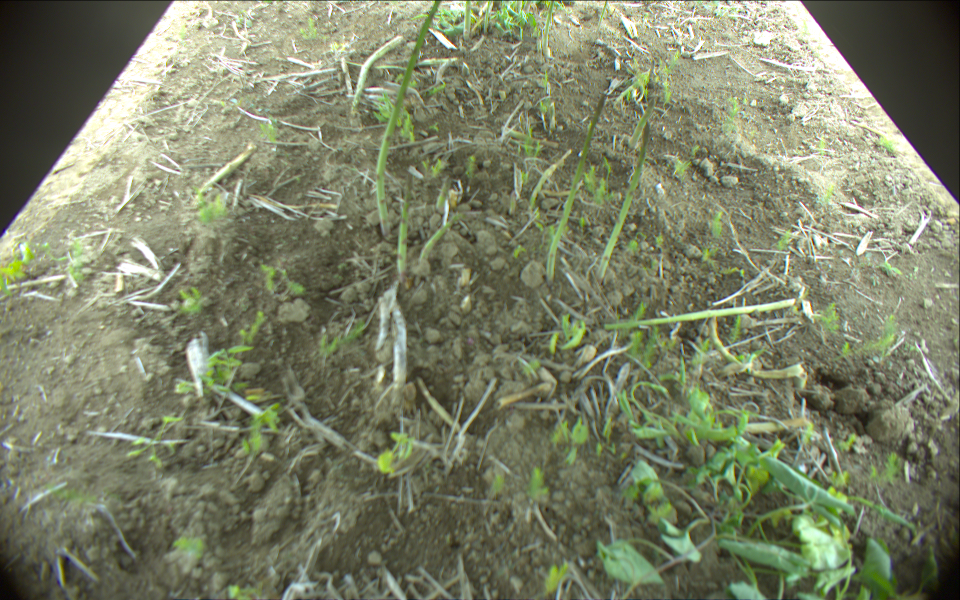aspa: (377, 1, 442, 237), (546, 95, 607, 282), (596, 118, 649, 283), (602, 298, 796, 330), (709, 319, 804, 379), (351, 36, 405, 117), (419, 208, 465, 263), (629, 72, 656, 148), (394, 172, 412, 281), (436, 176, 451, 213), (543, 1, 554, 50), (462, 1, 474, 40), (594, 1, 606, 40), (483, 1, 492, 30)
